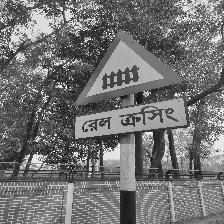Rail-crossing: (73, 29, 189, 142)
